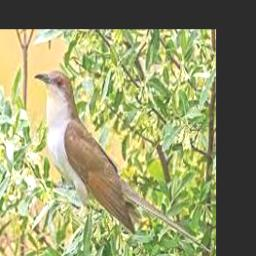Cuckoo: (33, 70, 210, 253)
